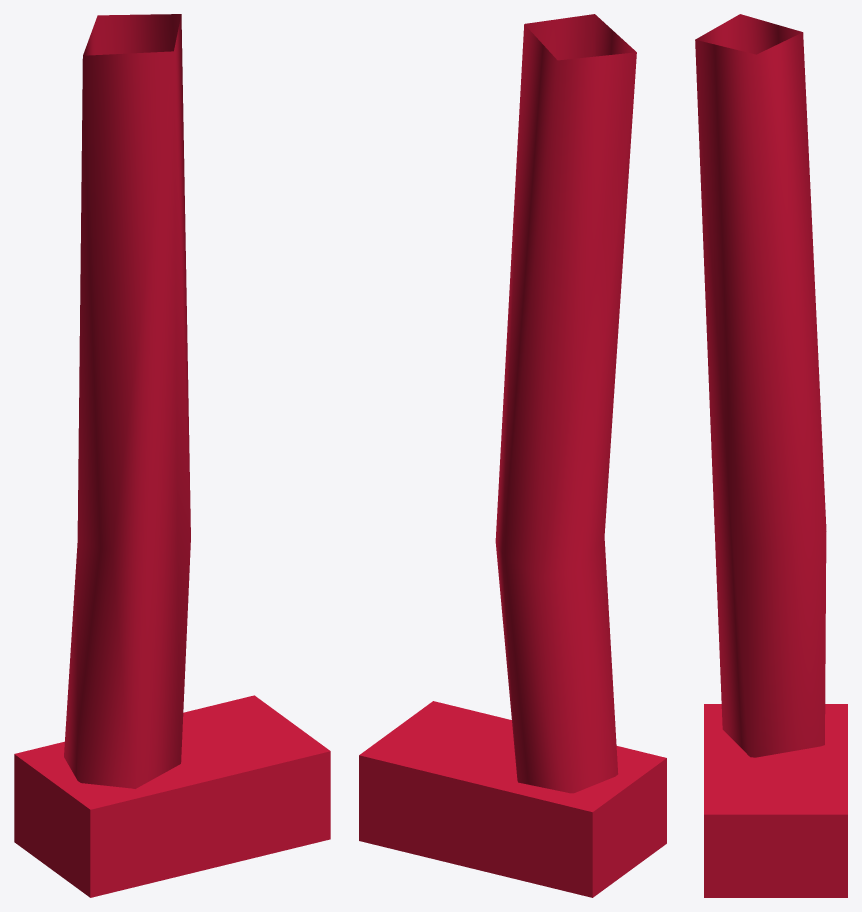
The model's file is l_leg.obj.
3 renders of one model, left to right at view 1: azimuth 30°, elevation 25°; view 2: azimuth 150°, elevation 25°; view 3: azimuth 270°, elevation 25°, orthographic. The views are drawn at different scales.
Visible parts, largest first — view 1: l_leg_Cube.005; view 2: l_leg_Cube.005; view 3: l_leg_Cube.005.
Boxes of the visible parts, box(x1,y1,x2,y2) form: l_leg_Cube.005: box(14, 14, 330, 897); l_leg_Cube.005: box(359, 14, 666, 897); l_leg_Cube.005: box(695, 14, 847, 897).
Bounding box in the file's own units: 0.6238 × 2.07 × 0.3639.
